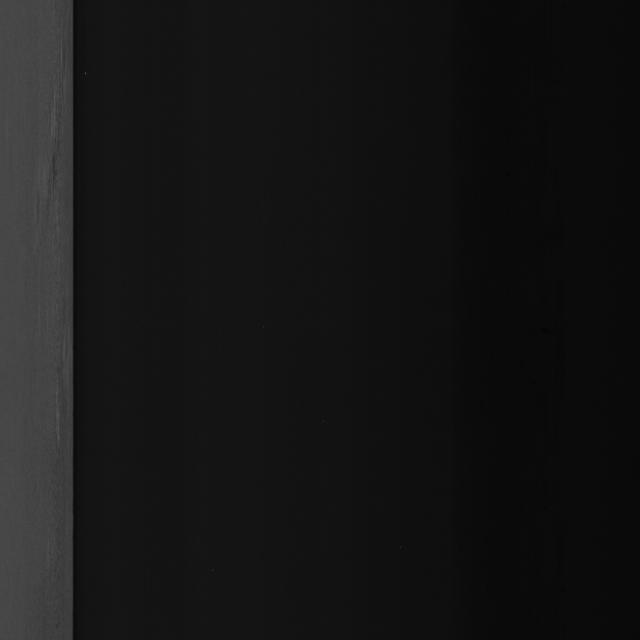inclusion: (18, 79, 65, 271)
